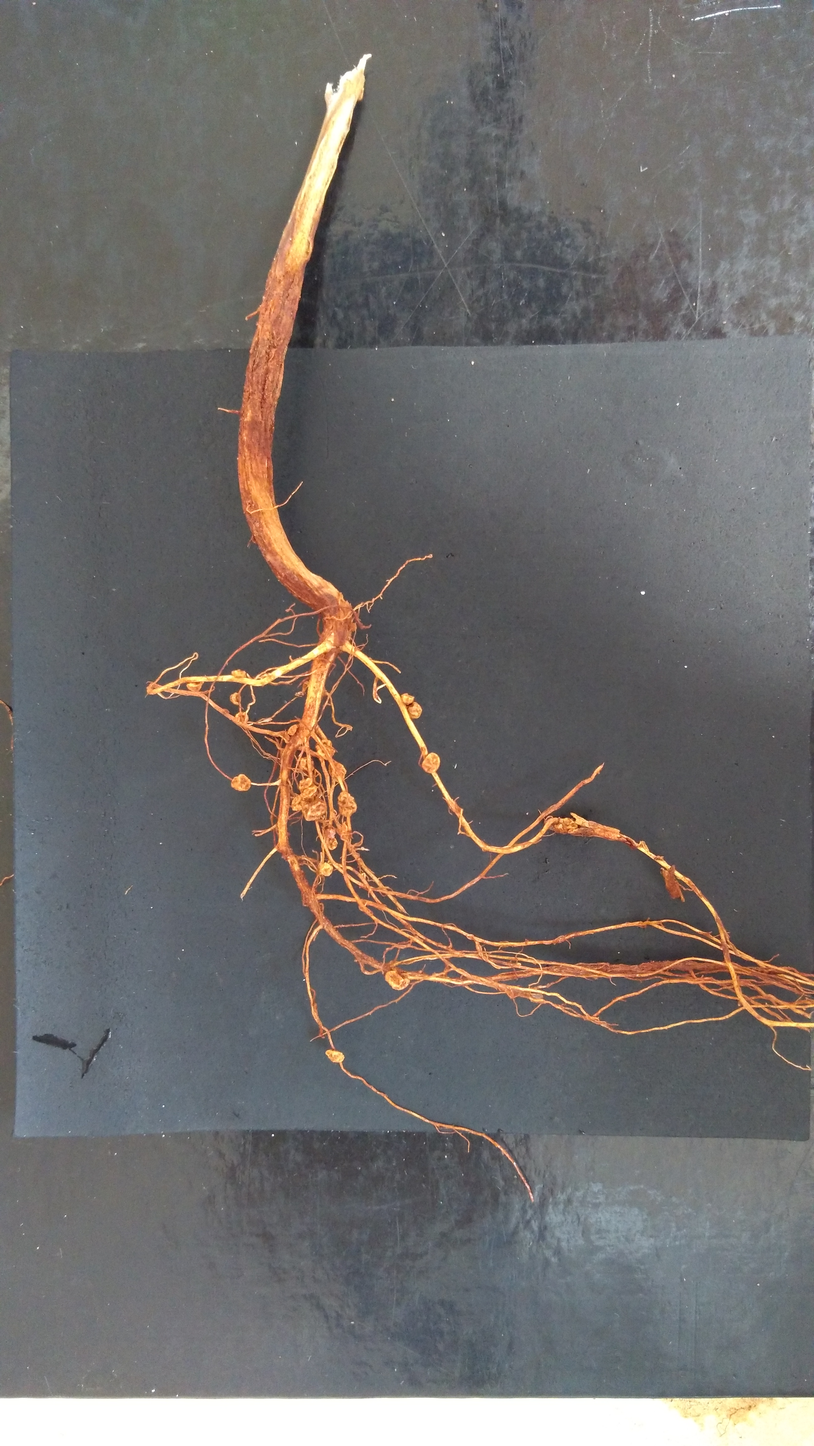nodule: (292, 784, 317, 811), (301, 797, 327, 821), (384, 969, 411, 991), (337, 790, 358, 818), (314, 739, 337, 761), (327, 760, 347, 785), (421, 751, 441, 774), (230, 773, 251, 792), (324, 1049, 345, 1064), (298, 756, 315, 773), (318, 861, 335, 878), (406, 701, 422, 719), (324, 836, 339, 851), (186, 680, 204, 692), (562, 817, 578, 830), (230, 668, 248, 679), (234, 711, 249, 724), (297, 777, 313, 789), (229, 691, 241, 706), (286, 723, 298, 737), (324, 825, 336, 838), (553, 822, 565, 835), (400, 693, 414, 704), (349, 622, 358, 632)
